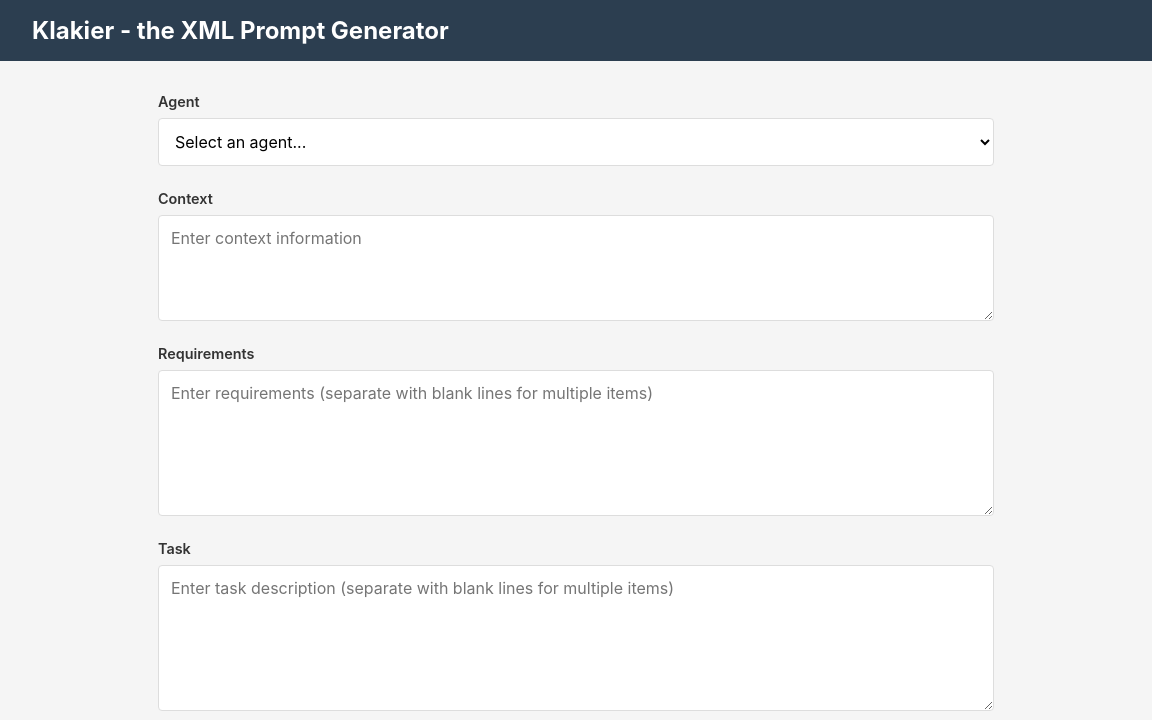
App › selects agent and updates XML output
Select "General Purpose" in the dropdown at (576, 142), box x1=158 y1=118 x2=994 y2=166
(page scrolled)
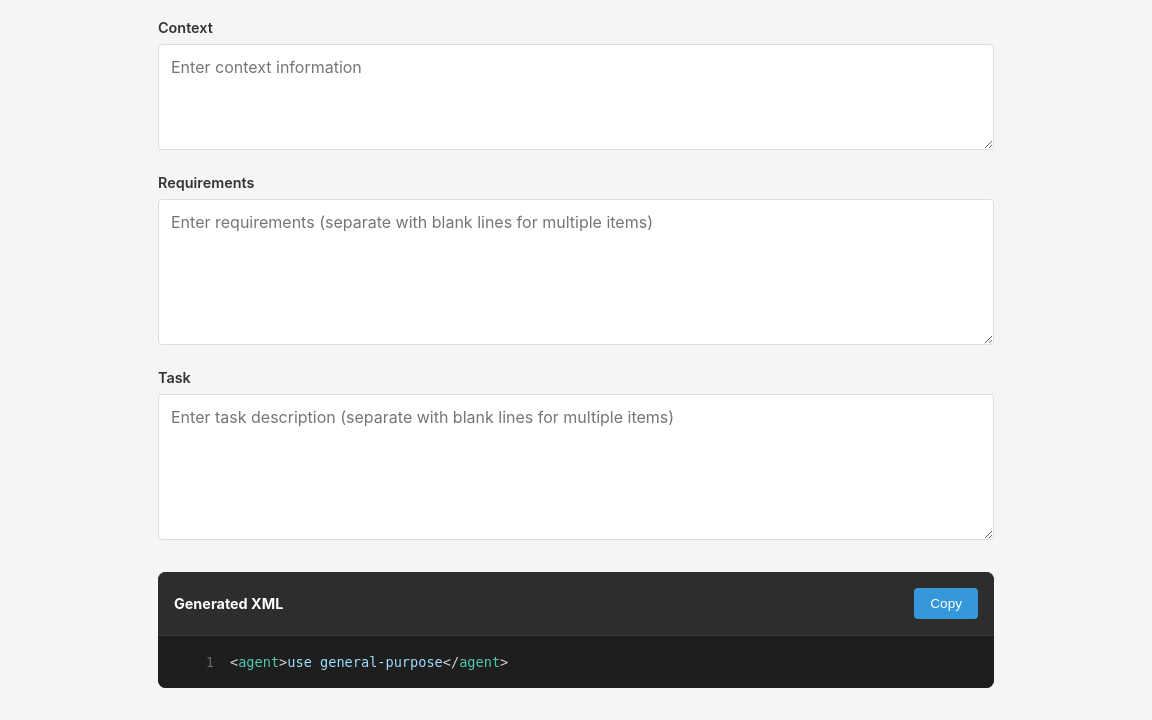
Expected: the element with class "output-panel" shows "use general-purpose", x1=287 y1=654 x2=443 y2=670
